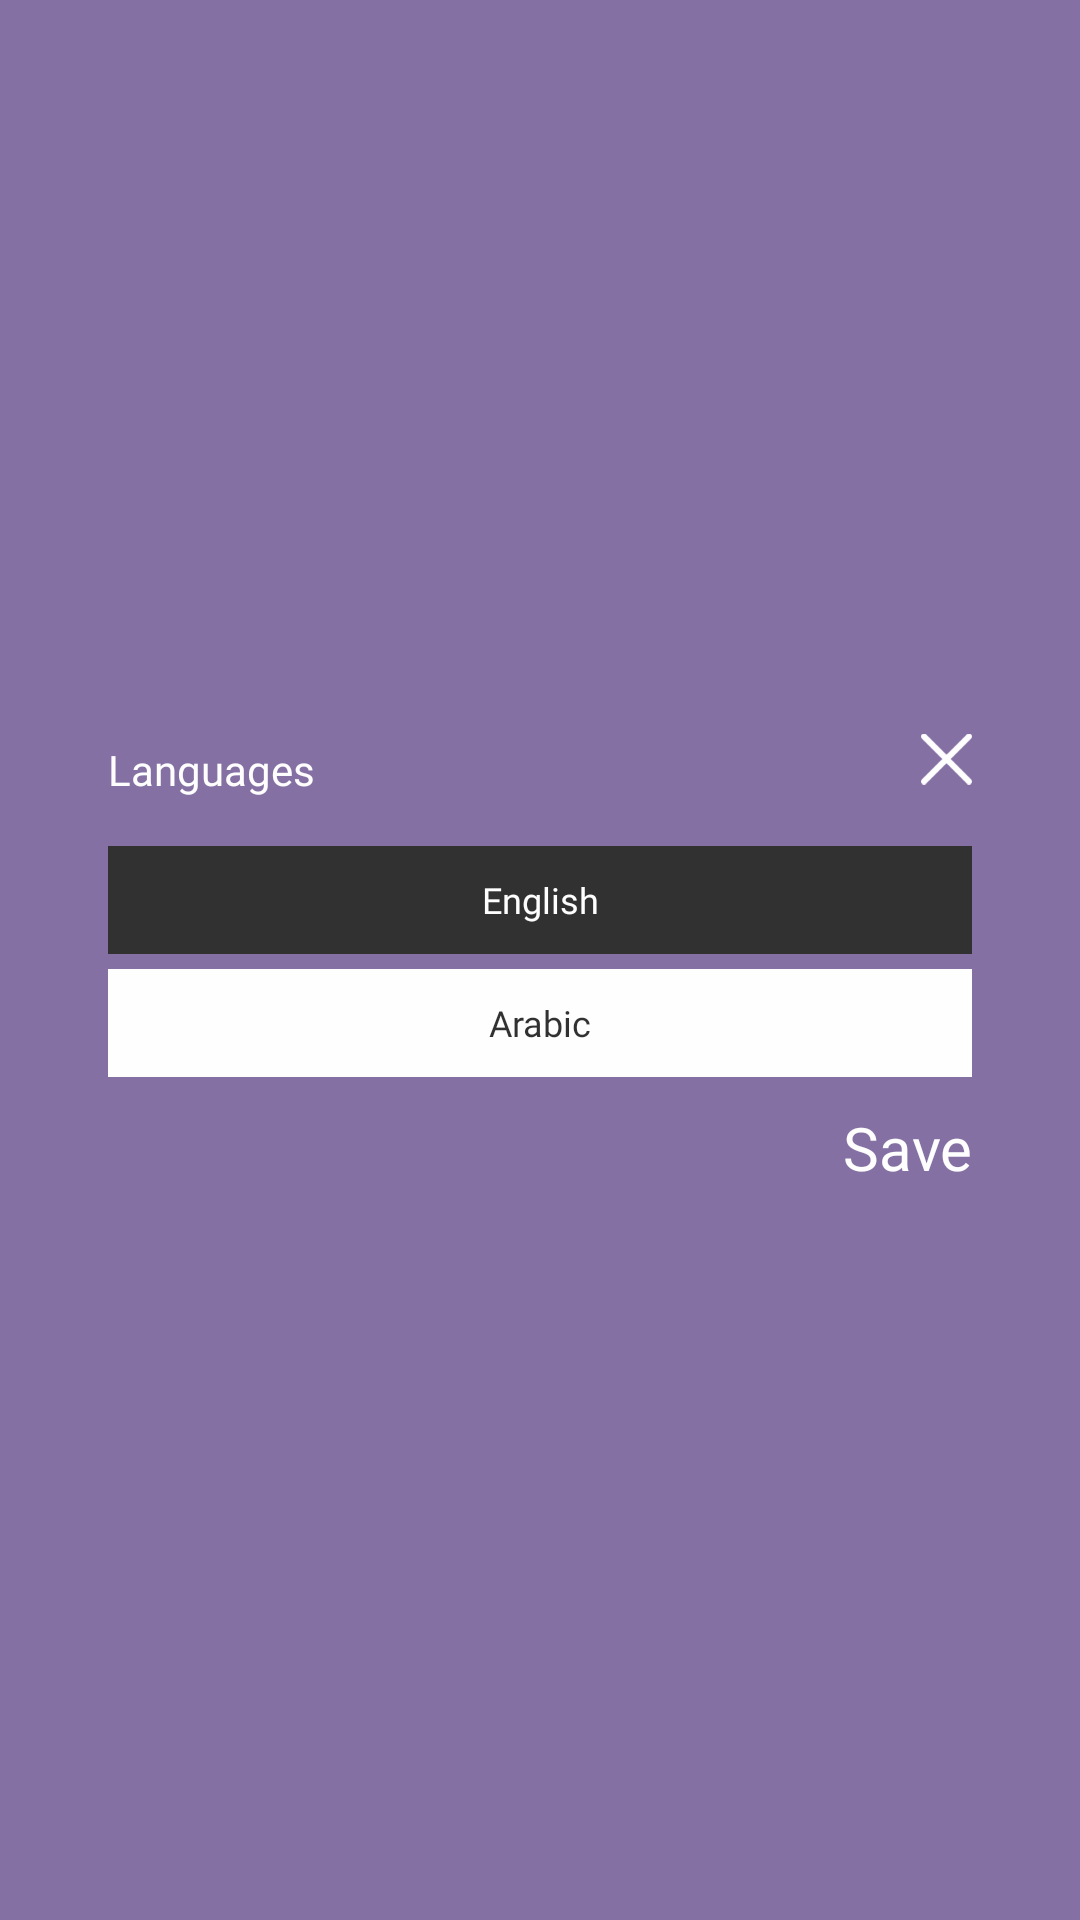

Icon bounding boxes for this 1080x1920 phone screenshot, format detection(x1, y1, x2, y2):
cross: detection(921, 734, 972, 785)
